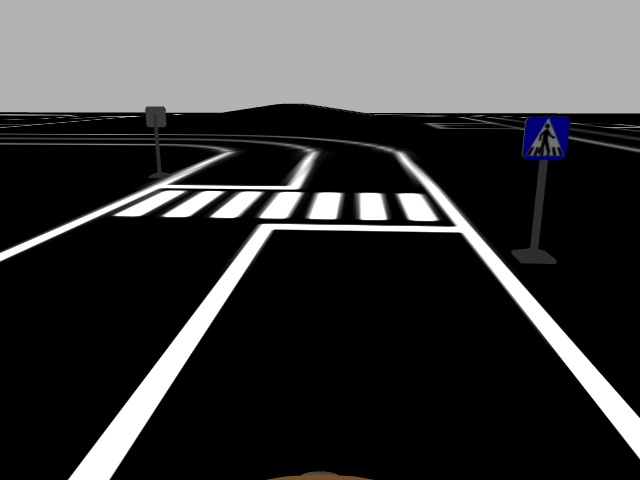crosswalk: (521, 113, 572, 163)
